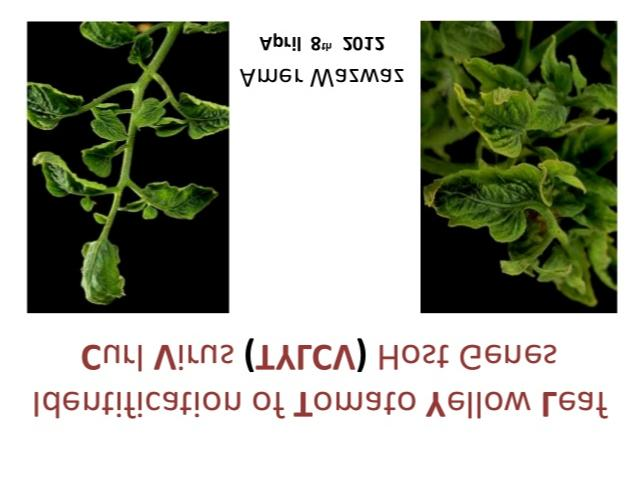Tomato leaf yellow virus: (447, 80, 562, 157), (429, 167, 544, 243), (76, 231, 125, 315), (134, 183, 223, 229), (30, 152, 106, 205)
